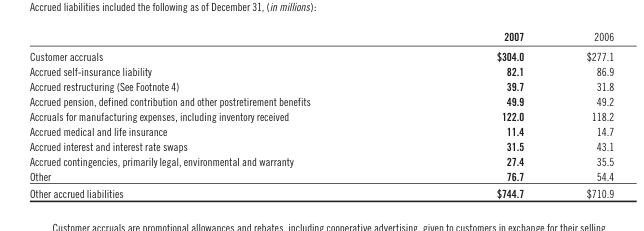table: (28, 28, 613, 199)
table column: (28, 28, 402, 199), (402, 28, 554, 199), (554, 28, 613, 199)
table column header: (28, 28, 613, 45)
table row: (28, 45, 613, 63), (28, 28, 613, 45), (28, 168, 613, 184), (28, 63, 613, 78), (28, 78, 613, 93), (28, 93, 613, 108), (28, 108, 613, 123), (28, 123, 613, 138), (28, 138, 613, 153), (28, 153, 613, 168), (28, 184, 613, 199)
